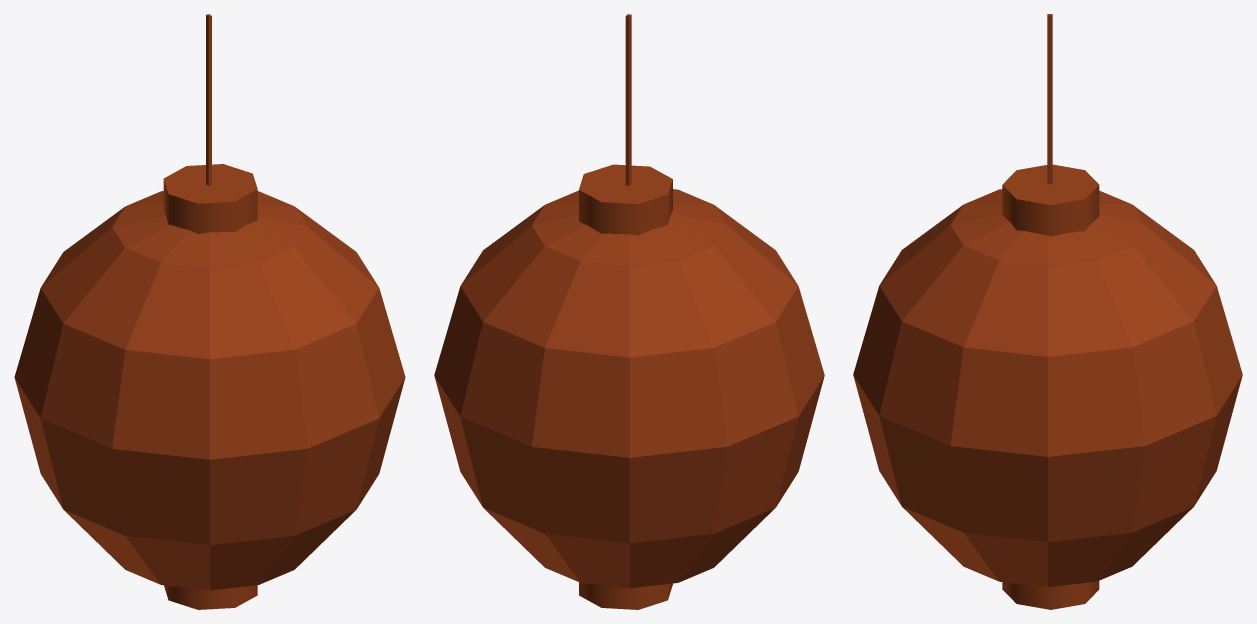
The model's file is SM_lantern_japanese_04.fbx.
3 views of the same model, side by side, from view 1: azimuth 30°, elevation 25°; view 2: azimuth 150°, elevation 25°; view 3: azimuth 270°, elevation 25° (orthographic).
Visible parts, largest first — view 1: Sphere002; view 2: Sphere002; view 3: Sphere002.
Boxes of the visible parts, box(x1,y1,x2,y2) form: Sphere002: box(14, 14, 405, 609); Sphere002: box(434, 14, 824, 609); Sphere002: box(853, 14, 1242, 609).
Size of the model in its own units: 18.08 by 18.08 by 29.37.
